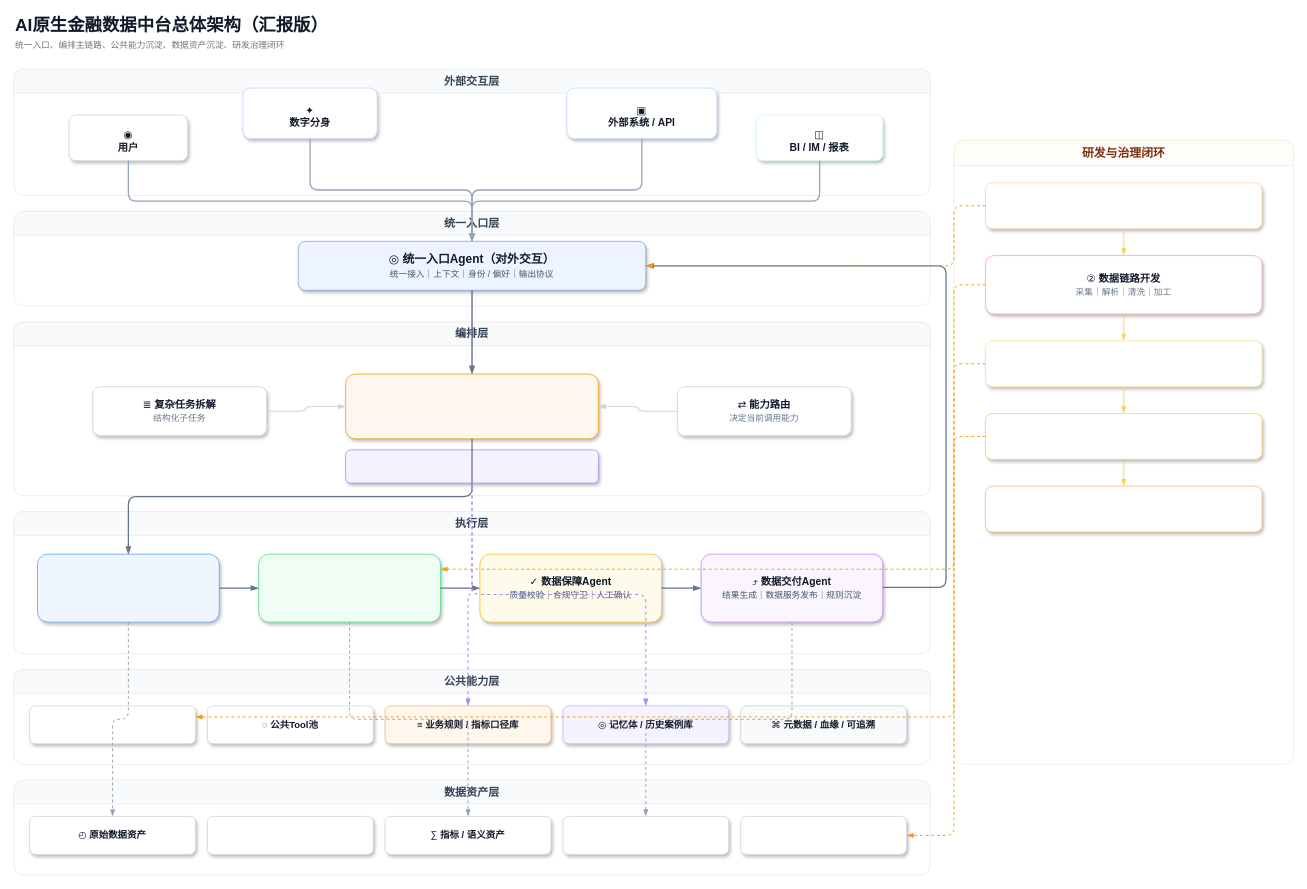
The diagram is 1307 pixels wide and 889 high, and some of its shapes have lost their labels. Here are the shapes that lost their labels. From the top down, the centre of each, then its label:
At (x=1124, y=206): "① 任务接入开发".
At (x=1124, y=364): "③ Agent / Skill / Tool 配置".
At (x=472, y=407): "◈ 总控编排 全局流程推进中枢".
At (x=1124, y=437): "④ Review / 测试 / 发布 / 回滚".
At (x=472, y=467): "↺ 反思沉淀 规则｜经验｜Skill｜记忆".
At (x=1124, y=510): "⑤ 观测 / 稽核 / 优化回流".
At (x=129, y=589): "⤓ 数据获取Agent 数据检索｜数据采集｜文件解析｜联网搜索".
At (x=350, y=589): "⚙ 数据生产Agent 清洗加工｜语义建模｜指标计算".
At (x=113, y=725): "✳ 公共Skill池".
At (x=290, y=836): "◫ 标准数据资产".
At (x=646, y=836): "⇢ 数据服务资产".
At (x=824, y=836): "☰ 资产目录 / 发布状态".
